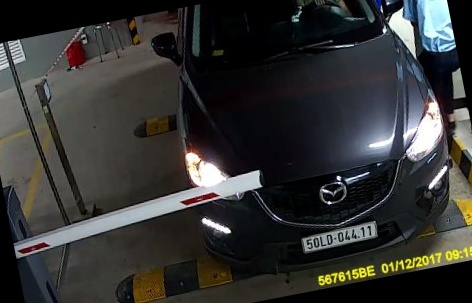plate: (296, 217, 380, 259)
